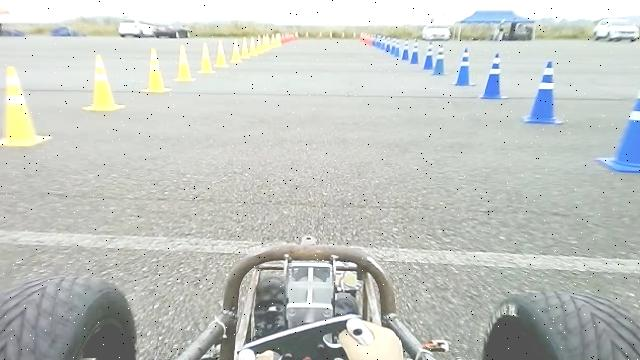blue cone: (594, 79, 640, 173), (521, 60, 564, 124), (478, 53, 509, 99), (453, 46, 477, 86), (432, 43, 448, 75)
yellow cone: (0, 65, 53, 146), (82, 54, 126, 111), (141, 48, 172, 92), (173, 43, 197, 81), (198, 41, 215, 73), (213, 39, 230, 68), (230, 38, 243, 62)
